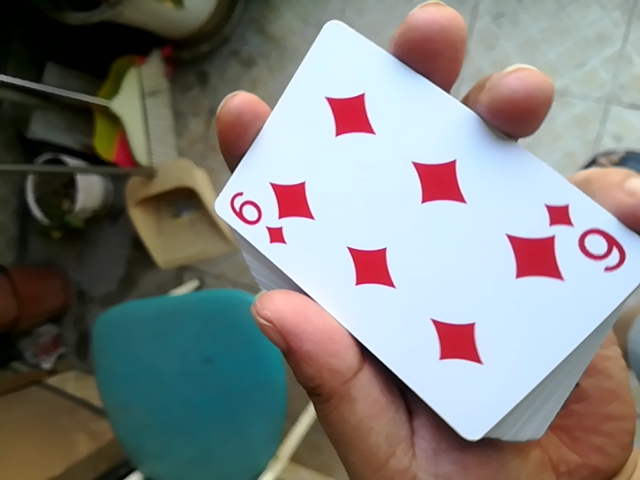fk 6: (220, 28, 640, 446)
